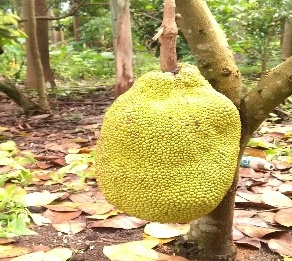Mit: (98, 73, 240, 216)
